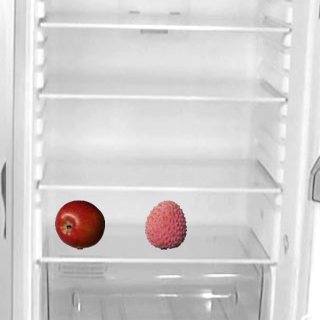Apple Braeburn: (54, 199, 104, 249)
Lychee: (140, 199, 190, 249)
